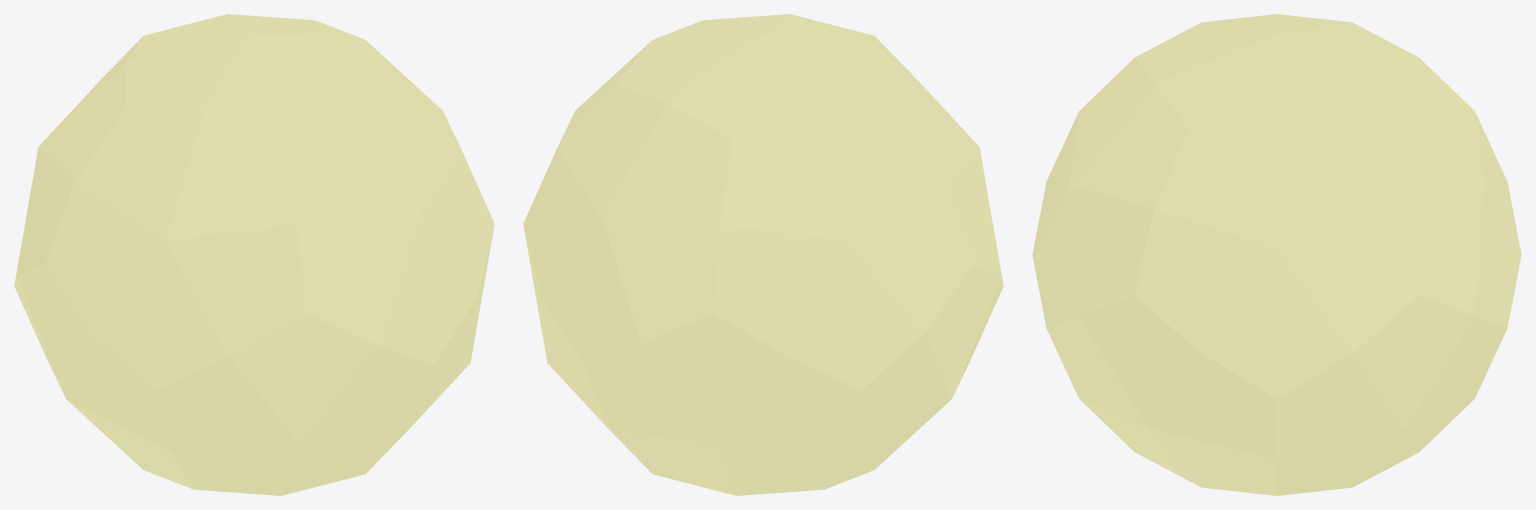
Rendered from MainBeam.glb.
The picture shows the model from 3 angles, left to right: view 1: azimuth 30°, elevation 25°; view 2: azimuth 150°, elevation 25°; view 3: azimuth 270°, elevation 25°; orthographic projection.
Parts seen in each view (by area): view 1: Beam.001; view 2: Beam.001; view 3: Beam.001.
Boxes of the visible parts, x1,y1,x2,y2 form: Beam.001: [14, 14, 494, 495]; Beam.001: [523, 14, 1003, 495]; Beam.001: [1032, 14, 1521, 495].
Size of the model in its own units: 32.76 by 32.96 by 33.08.
